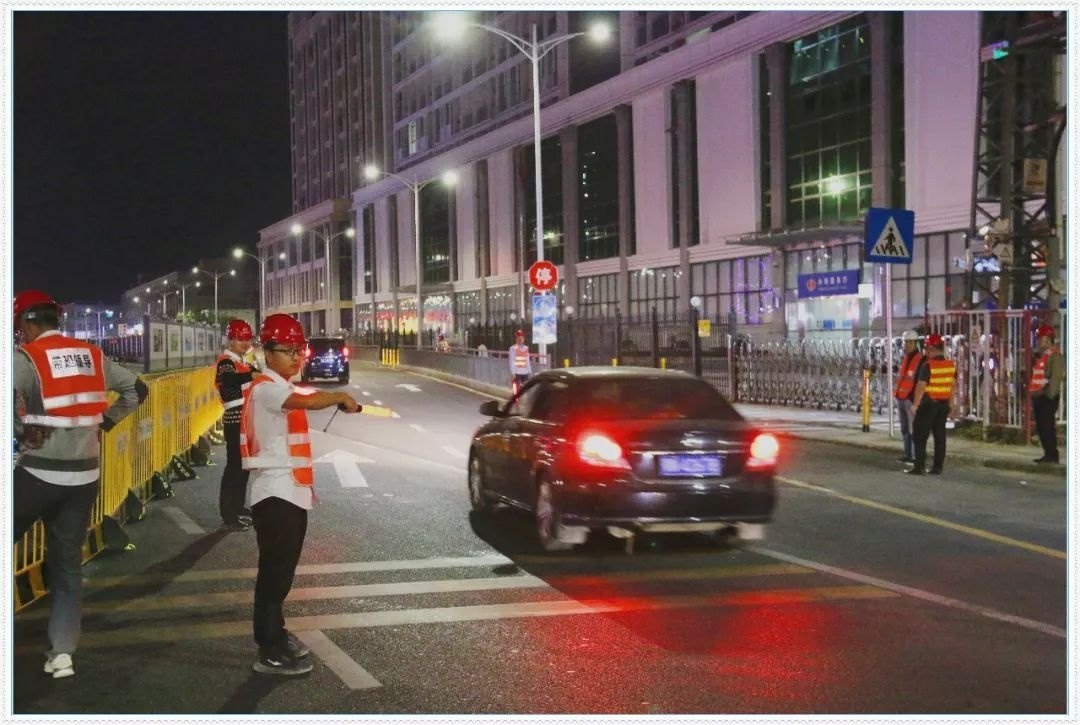red: (254, 314, 307, 377), (16, 285, 61, 348), (222, 317, 254, 355), (922, 331, 945, 359), (1034, 325, 1056, 350), (513, 328, 527, 345)
white: (899, 327, 919, 353)
